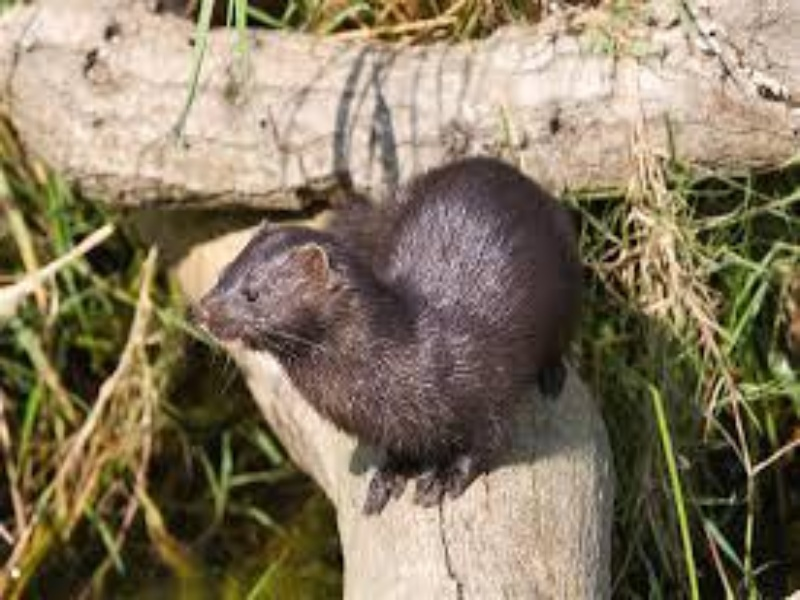minkish: (196, 153, 581, 520)
